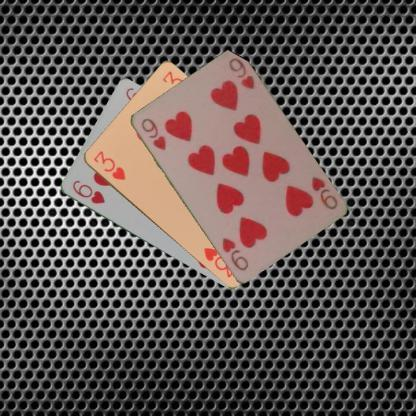3h: (90, 148, 127, 181)
6h: (70, 177, 106, 206)
9h: (308, 174, 338, 211), (138, 115, 167, 151)
